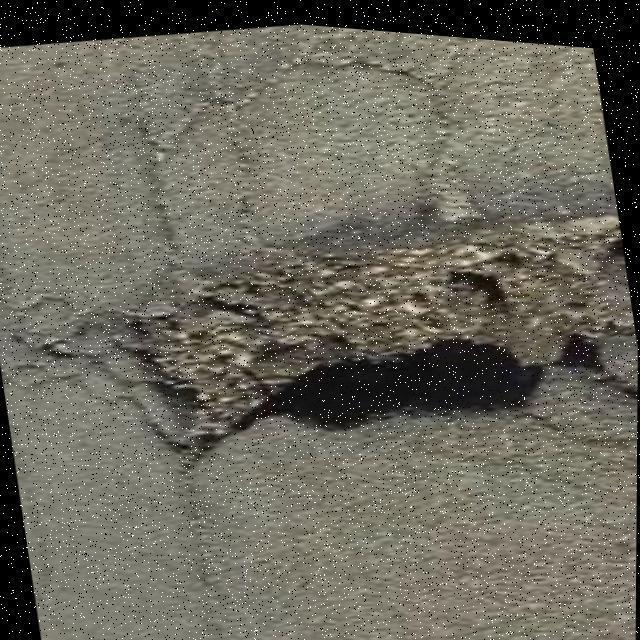Pothole: (45, 216, 632, 469)
